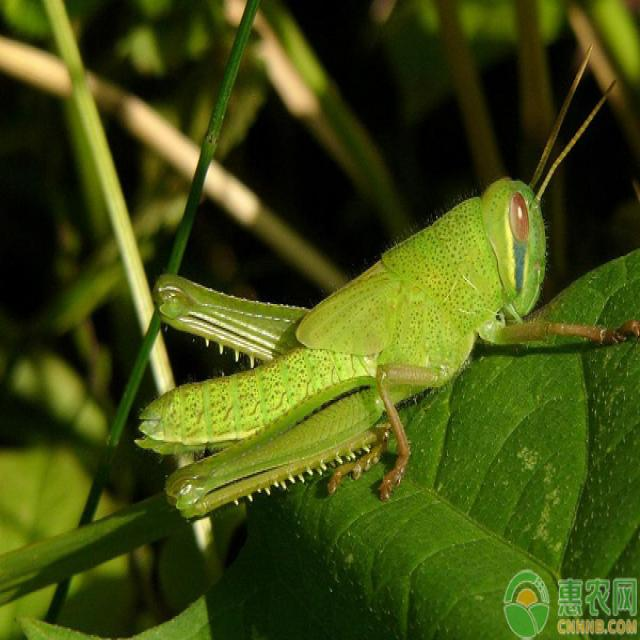ZhaMeng: (103, 162, 567, 534)
